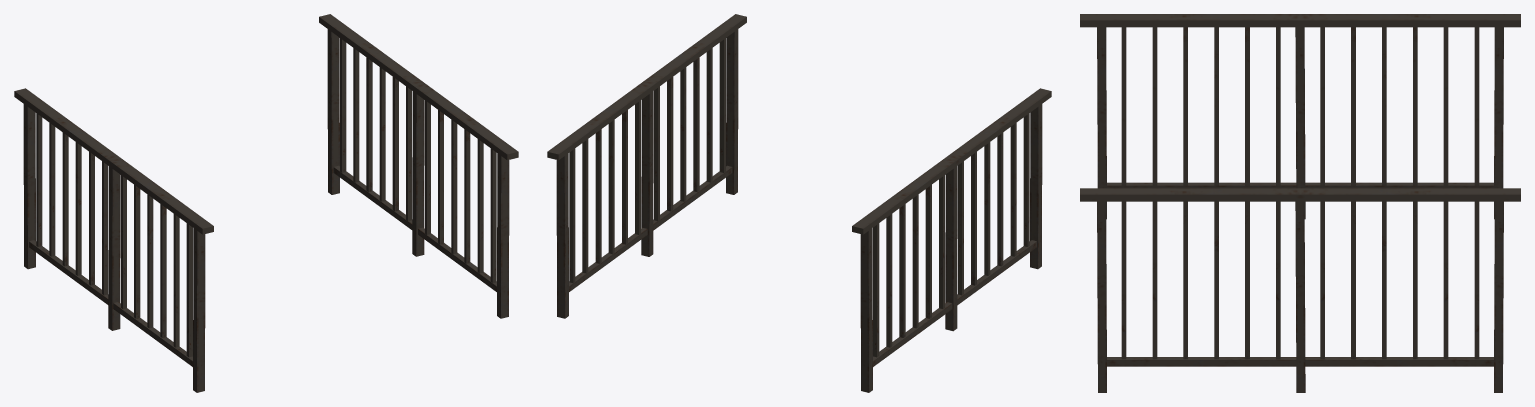
The model's file is stairs_rails_metal_straight_2.glb.
3 views of the same model, side by side, from view 1: azimuth 30°, elevation 25°; view 2: azimuth 150°, elevation 25°; view 3: azimuth 270°, elevation 25° (orthographic). The views are drawn at different scales.
Visible parts, largest first — view 1: Stairs_Rails_Metal_Straight_2; view 2: Stairs_Rails_Metal_Straight_2; view 3: Stairs_Rails_Metal_Straight_2.
Part boxes in pixels (box(x1,y1,x2,y2)): Stairs_Rails_Metal_Straight_2: box(14, 14, 518, 392); Stairs_Rails_Metal_Straight_2: box(547, 14, 1051, 392); Stairs_Rails_Metal_Straight_2: box(1080, 14, 1520, 392).
Bounding box in the file's own units: 1.94 × 0.9981 × 2.
Materials: 1 (1 with a texture image).
